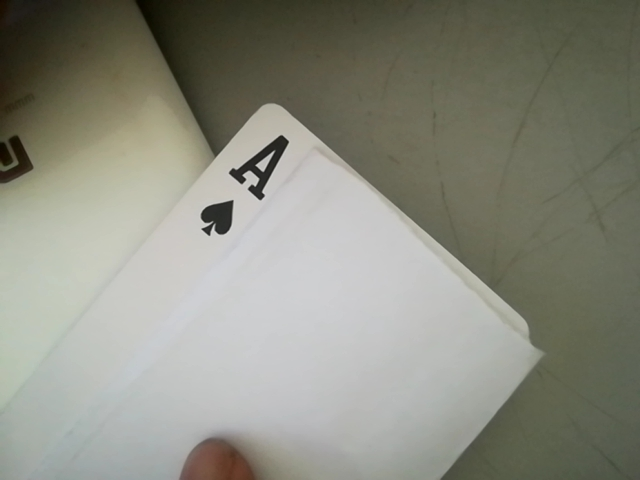ht a: (178, 121, 313, 244)
